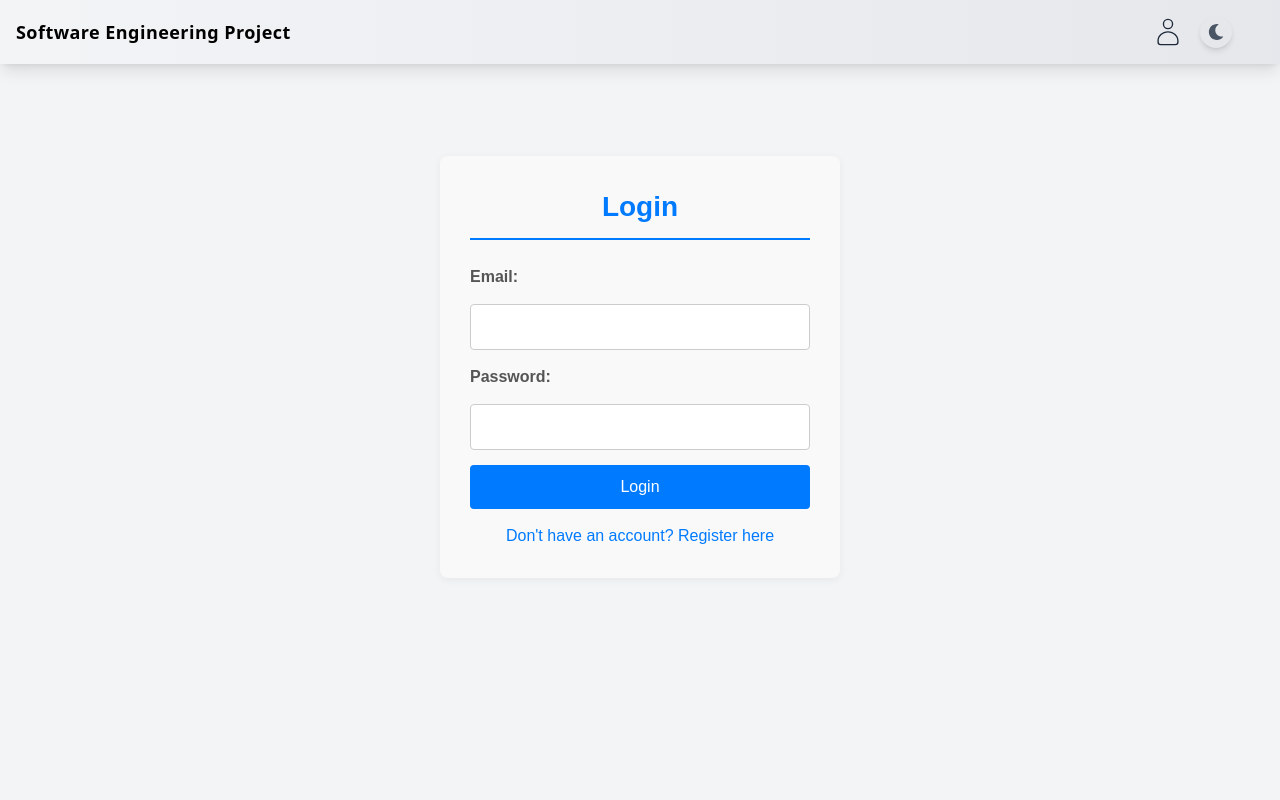
it: Authentication Flow › User Login › should navigate to registration page from login
What coordinates should you click on to do the following:
click the link with test id "go-to-register"
I would click on:
 (640, 536)
Its box is [506,527,774,544].
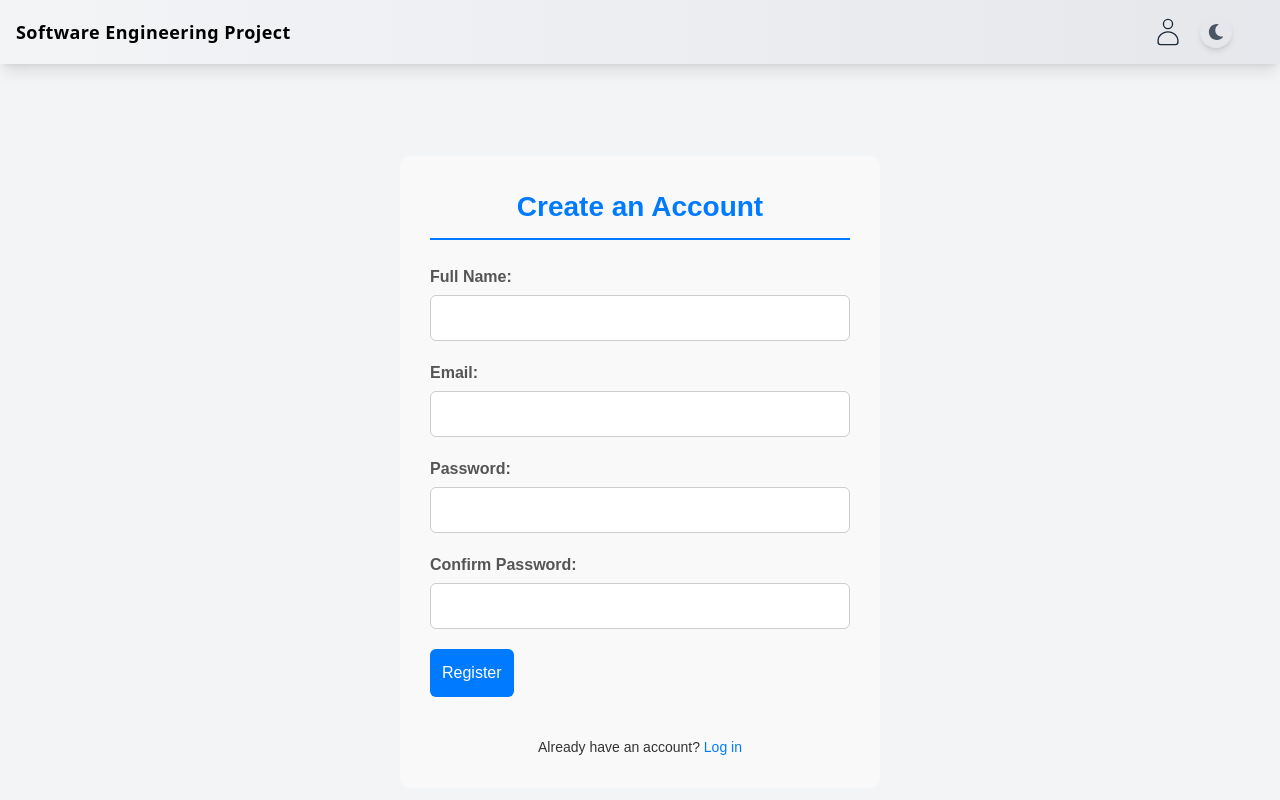
Result: the heading "Create an Account" is shown at [430,186,850,240]
